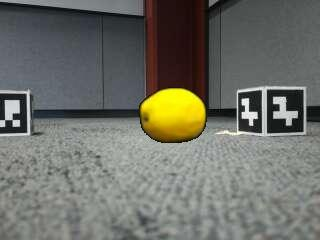lemon: (141, 89, 206, 144)
